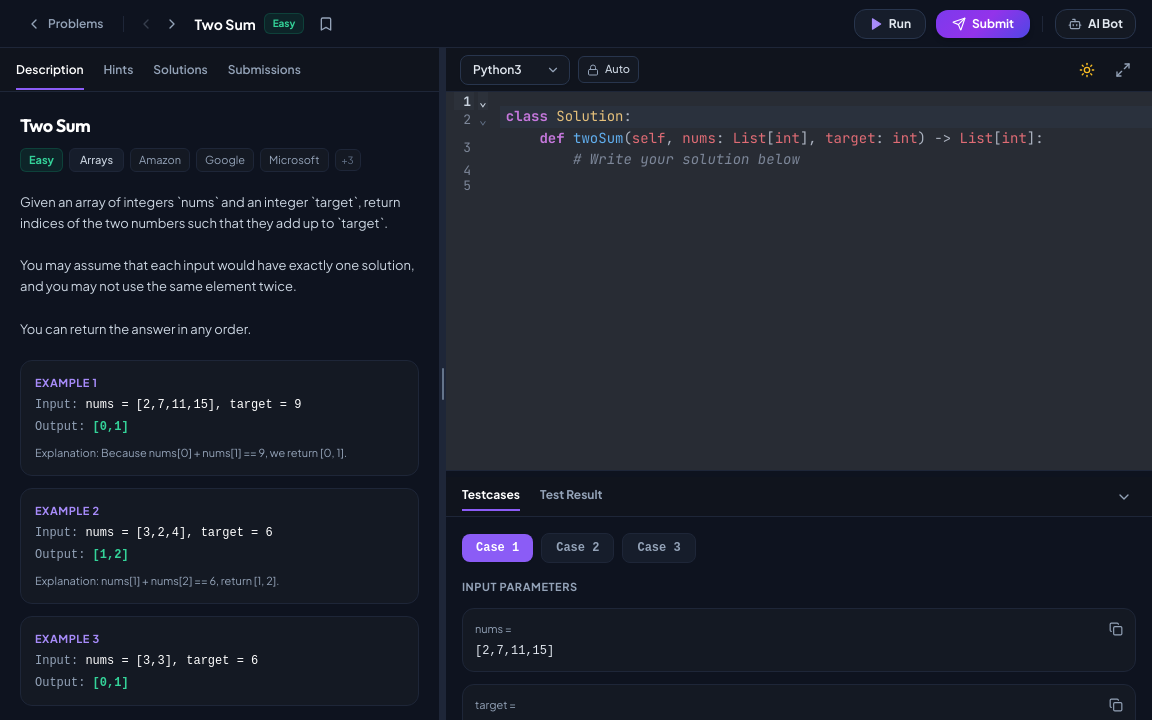
PracticeWorkspace UI Component › opens AI Mentor sidebar when AI Bot button is clicked and closes it when X is clicked
This screenshot has width=1152, height=720.
Expected: the text "AI Mentor" is not shown
// Click AI Bot button in header
Click the button "AI Bot".
click(1096, 24)  # box [1055,8,1136,38]
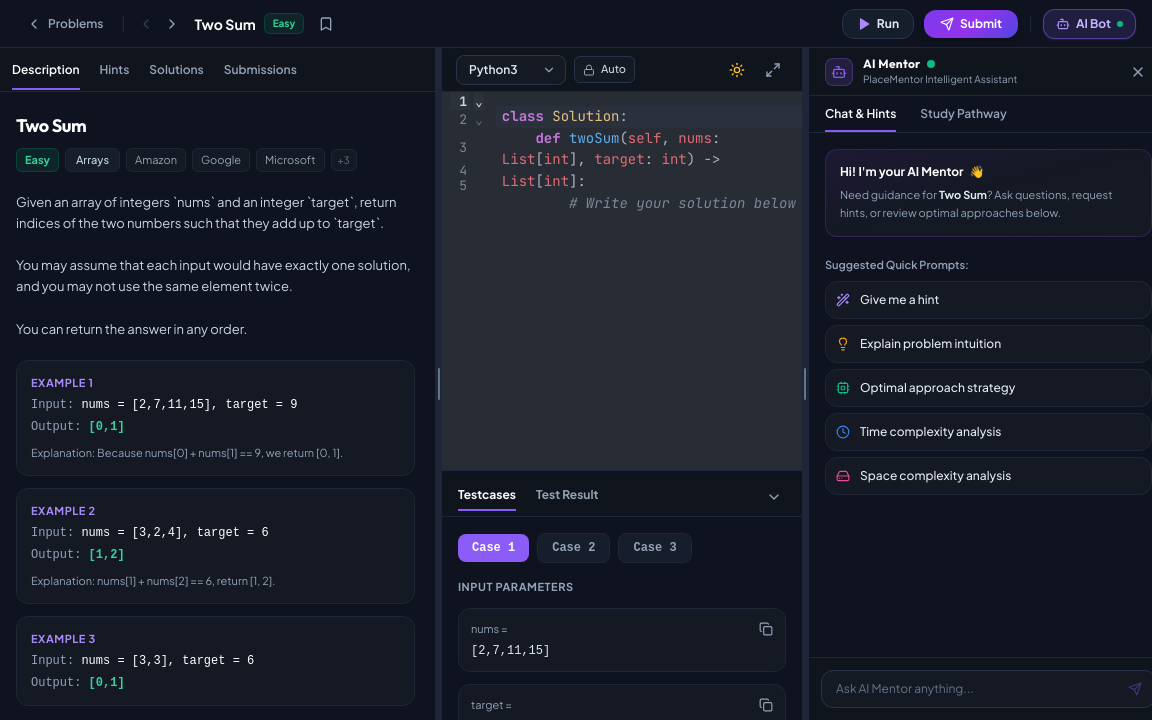
Result: the heading "AI Mentor" is shown at [863,56,921,72]
Result: the button titled "Close AI Mentor panel" is shown
// Click Close (X) button
Click the button titled "Close AI Mentor panel".
click(1138, 72)  # box [1124,58,1151,86]
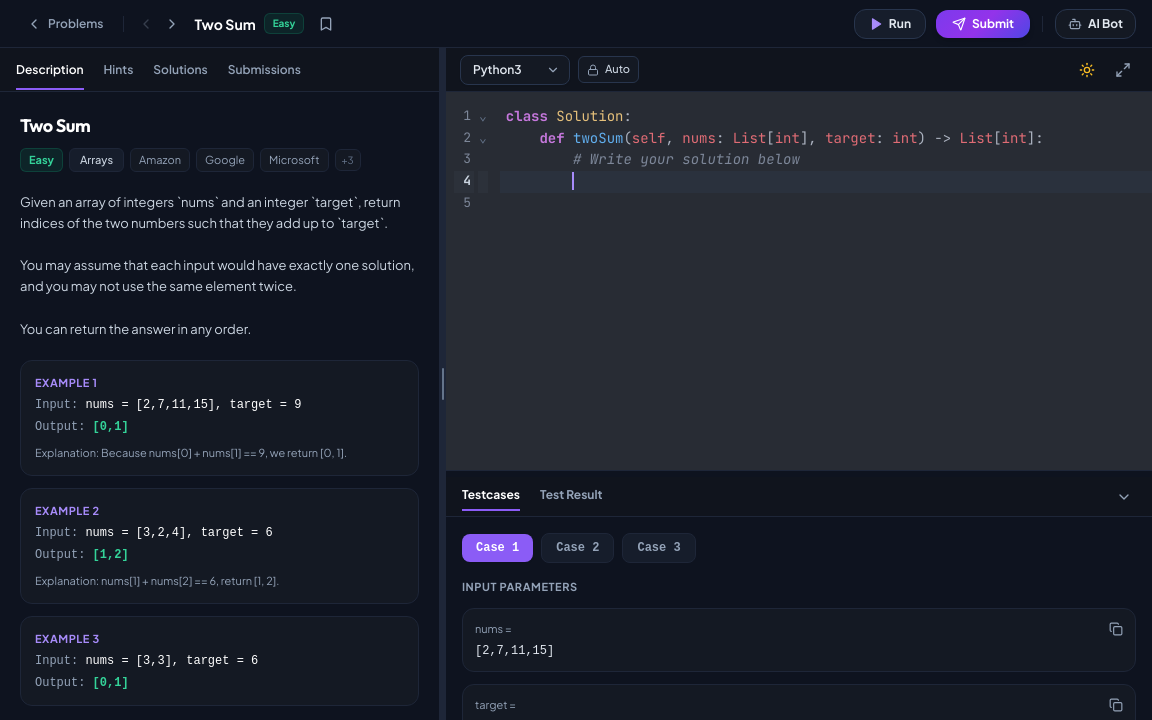
Result: the heading "AI Mentor" is gone
